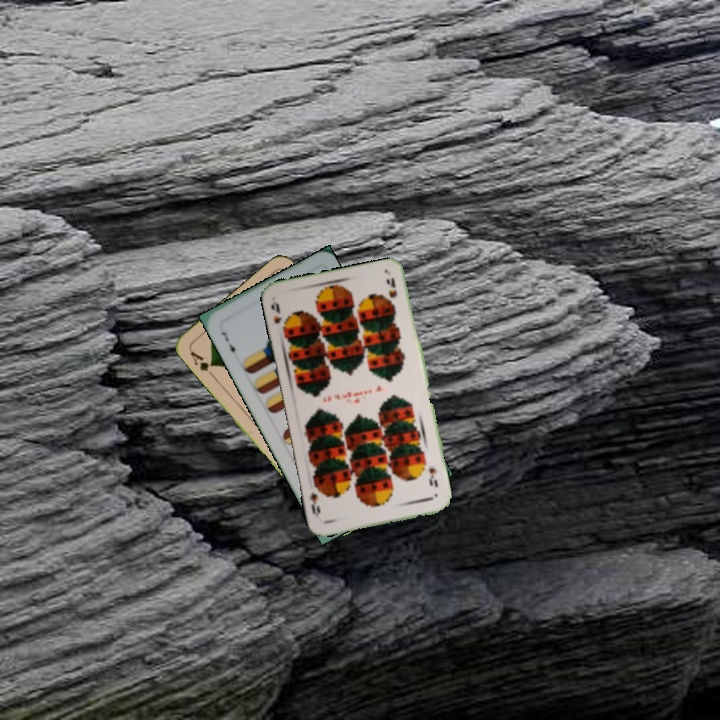E7: (217, 327, 238, 359)
GA: (186, 347, 217, 380)
S9: (267, 298, 290, 336), (425, 463, 440, 490)
